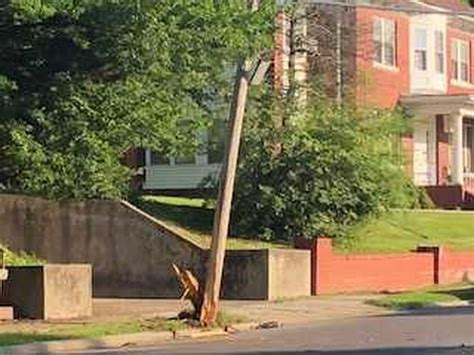pole: (180, 39, 288, 333)
